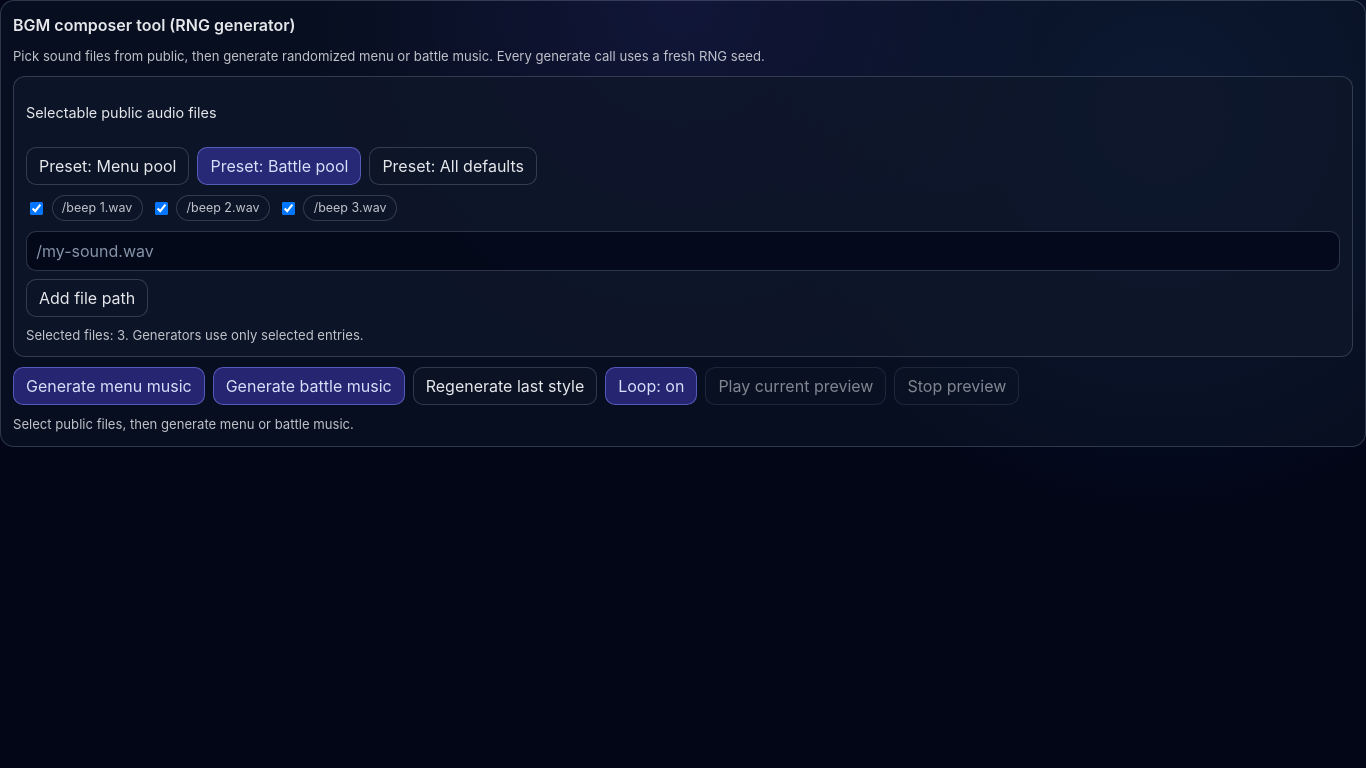
it: BgmComposerToolExample › generates menu track preview and exposes event list
Click the button "Generate menu music" at (109,386), box [13,367,205,405]
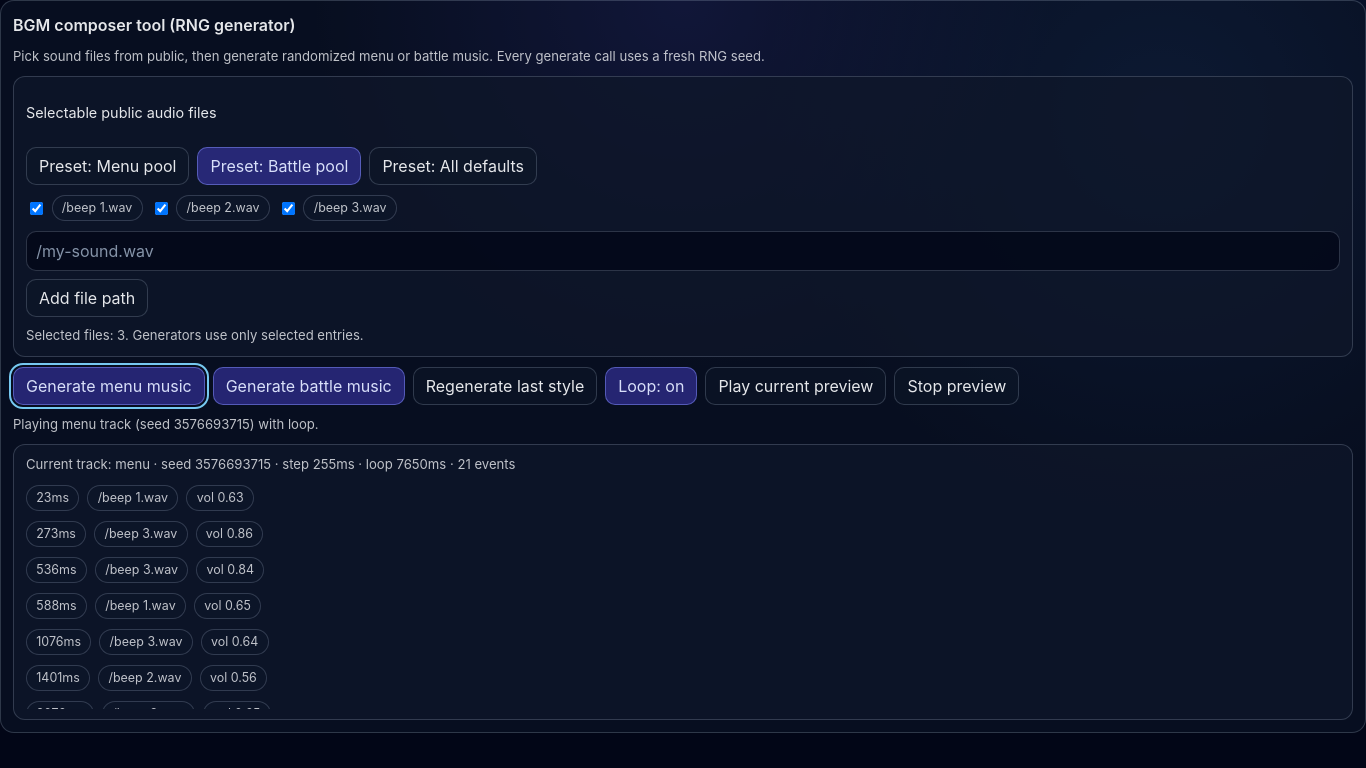
Check: the text "Playing menu track (seed 3576693715) with loop." is shown, box [13,416,319,432]
Check: the text "Current track: menu" is shown, box [26,456,515,472]
